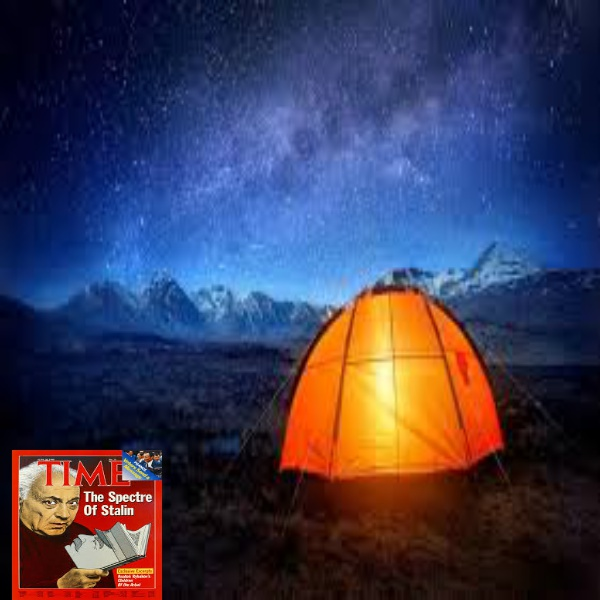time_cover: (6, 436, 168, 598)
